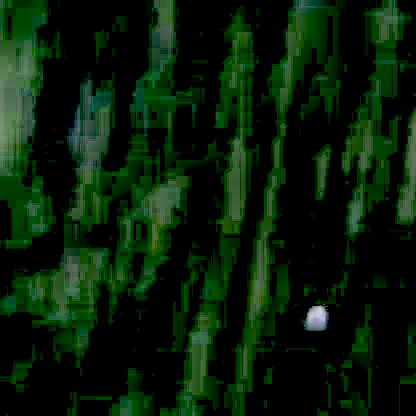golfball: (303, 300, 325, 325)
